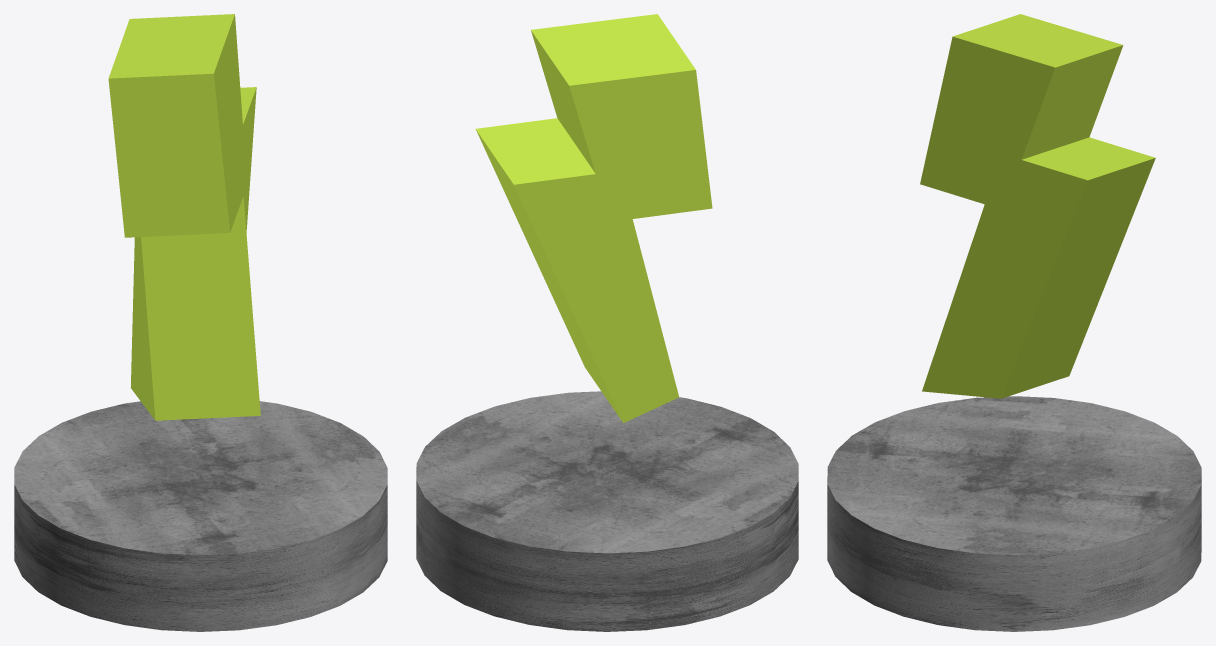
The model's file is ligGreen.glb.
3 views of the same model, side by side, from view 1: azimuth 30°, elevation 25°; view 2: azimuth 150°, elevation 25°; view 3: azimuth 270°, elevation 25° (orthographic). The views are drawn at different scales.
Visible parts, largest first — view 1: 018_Cylinder_-_baked_13, 017_lightening_2; view 2: 018_Cylinder_-_baked_13, 017_lightening_2; view 3: 018_Cylinder_-_baked_13, 017_lightening_2.
Part boxes in pixels (bbox=[...]): 018_Cylinder_-_baked_13: bbox=[14, 401, 387, 631]; 017_lightening_2: bbox=[108, 14, 260, 420]; 018_Cylinder_-_baked_13: bbox=[416, 391, 798, 631]; 017_lightening_2: bbox=[475, 14, 712, 422]; 018_Cylinder_-_baked_13: bbox=[827, 396, 1201, 631]; 017_lightening_2: bbox=[920, 14, 1155, 398].
Bounding box in the file's own units: 17.06 × 25.6 × 16.97.
2 materials, 1 textured.
